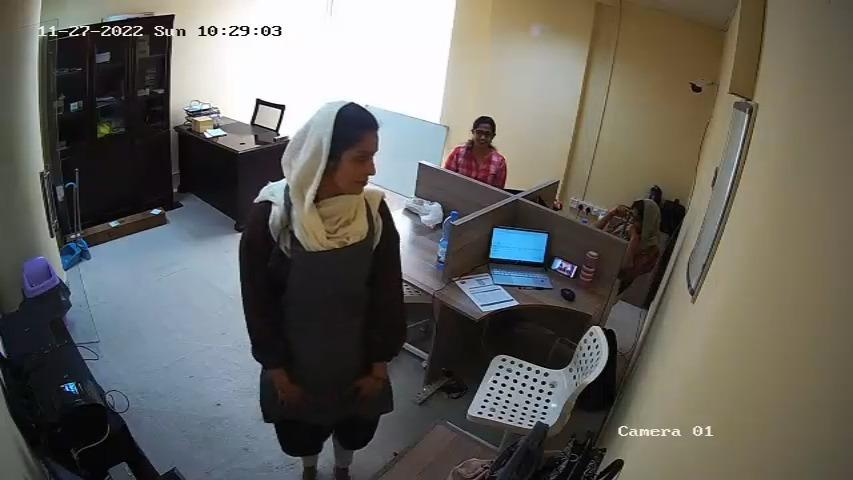apron: (279, 191, 383, 365)
